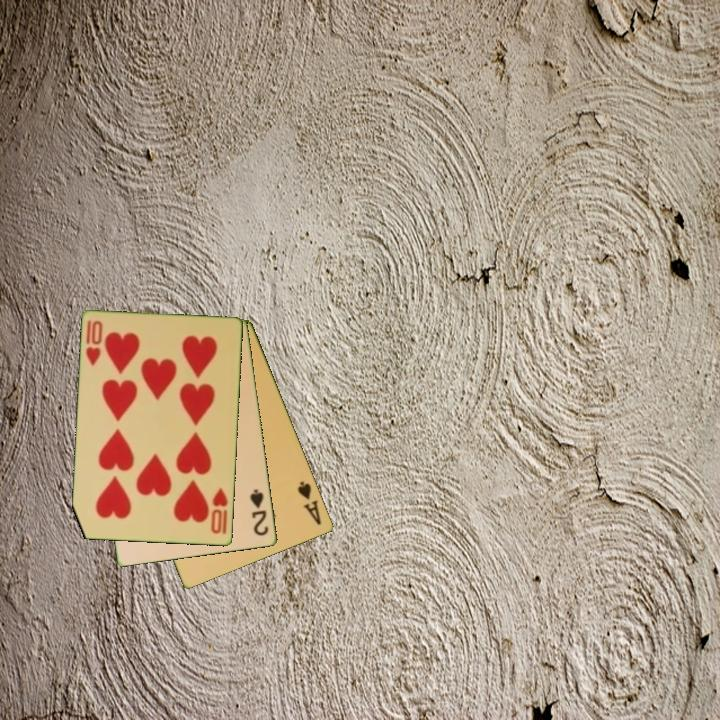10h: (208, 485, 231, 537), (82, 317, 105, 369)
2s: (247, 486, 271, 539)
As: (294, 477, 325, 528)
